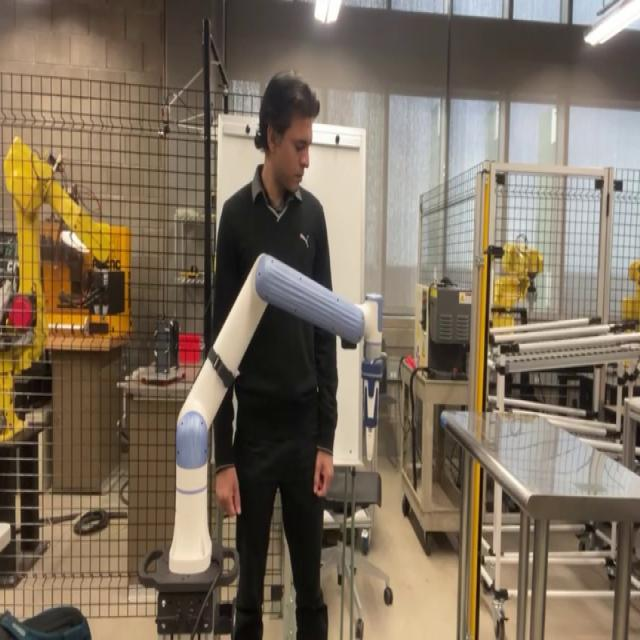robot: (154, 245, 398, 582)
